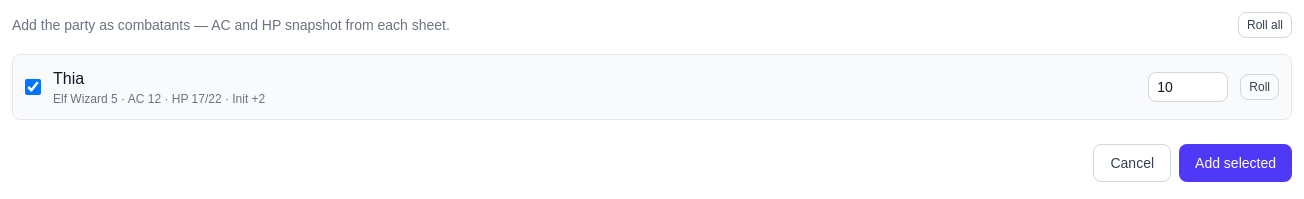
Test: AddPartyDialog › rolls d20 + the sheet initiative modifier into the row input
Click the button with aria-label "roll initiative for thia" at (1260, 87), box [1240,74,1279,100]
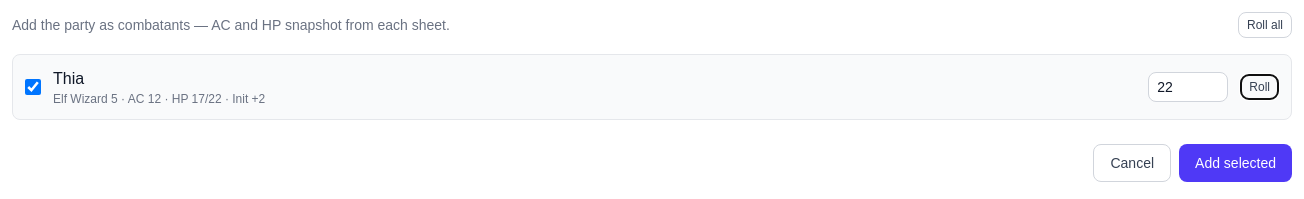
Expected: the number field named "initiative for thia" holds "22", [1148,72,1228,102]
